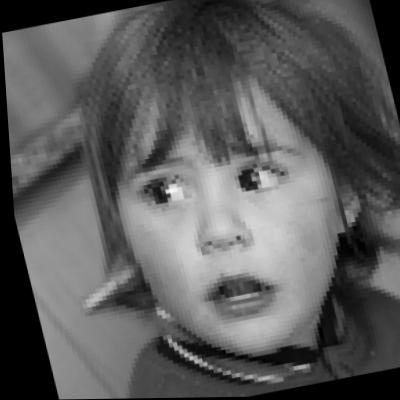surprise: (75, 33, 360, 369)
